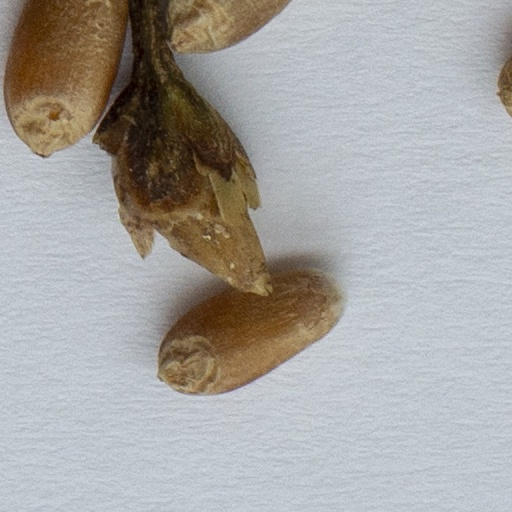Peel-poly: (98, 0, 268, 291)
Wheat-grain-poly: (159, 273, 342, 393)
